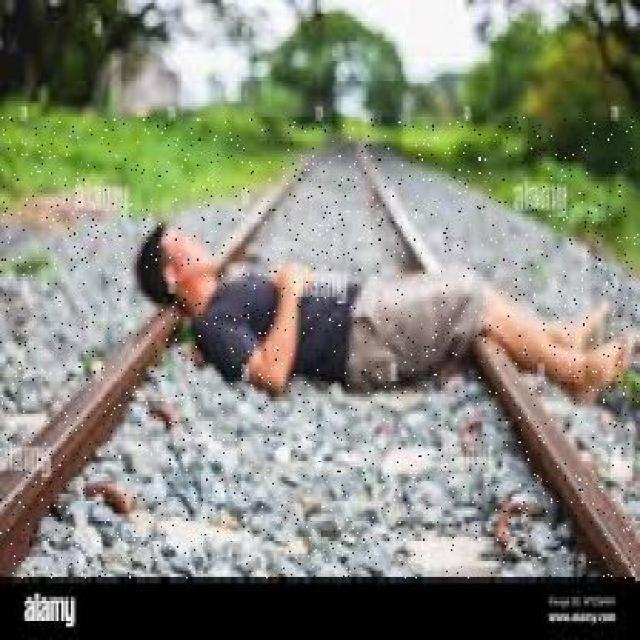danger: (141, 197, 640, 403)
rail: (0, 118, 635, 578)
